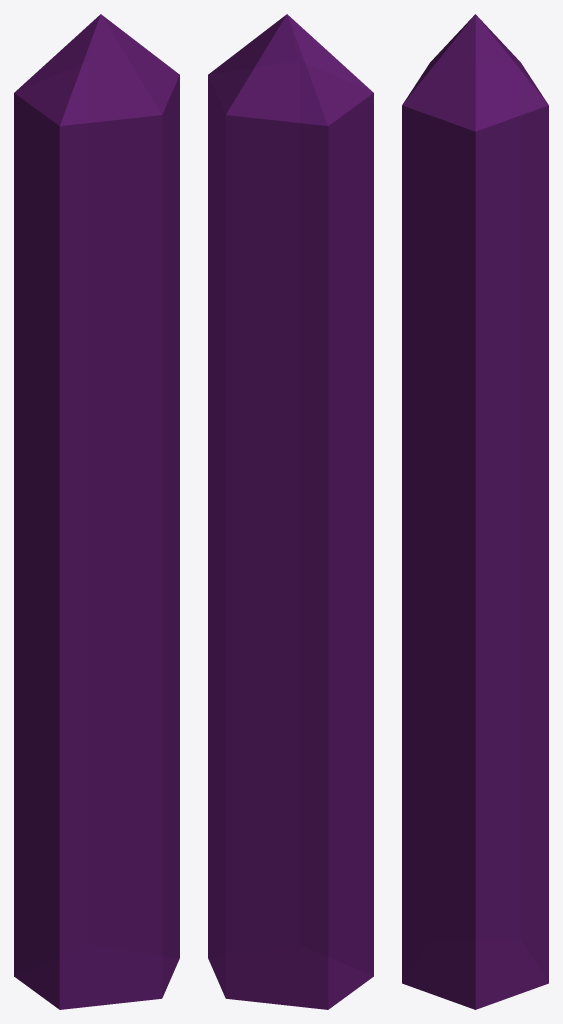
Rendered from Crystal_Pointy_End.fbx.
3 renders of one model, left to right at view 1: azimuth 30°, elevation 25°; view 2: azimuth 150°, elevation 25°; view 3: azimuth 270°, elevation 25°, orthographic.
Parts seen in each view (by area): view 1: Crystal_Pointy_End; view 2: Crystal_Pointy_End; view 3: Crystal_Pointy_End.
Part boxes in pixels (x1,y1,x2,y2): Crystal_Pointy_End: (14, 14, 179, 1009); Crystal_Pointy_End: (208, 14, 373, 1009); Crystal_Pointy_End: (402, 14, 548, 1009).
Size of the model in its own units: 1.52 by 1.36 by 9.79.
